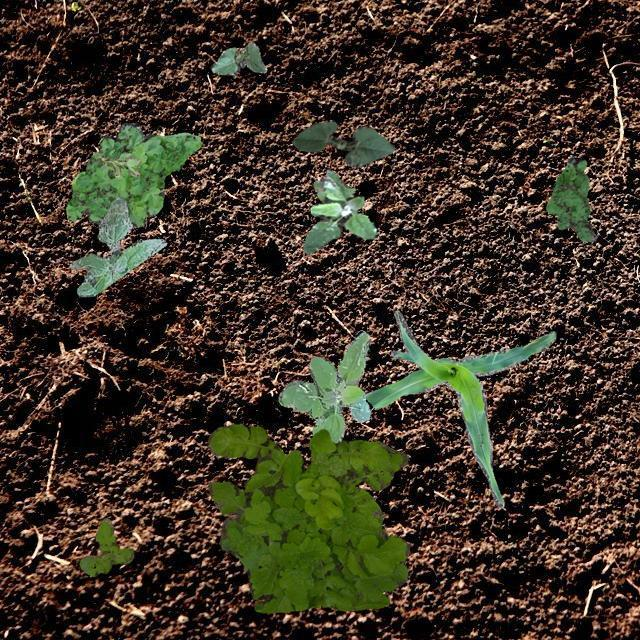crop: (365, 309, 555, 506), (292, 120, 394, 166), (210, 41, 266, 74)
weed: (206, 422, 408, 612), (64, 122, 200, 226), (278, 332, 370, 442), (68, 197, 165, 296), (303, 170, 377, 253), (544, 157, 596, 240), (78, 516, 132, 576), (92, 150, 138, 177)
